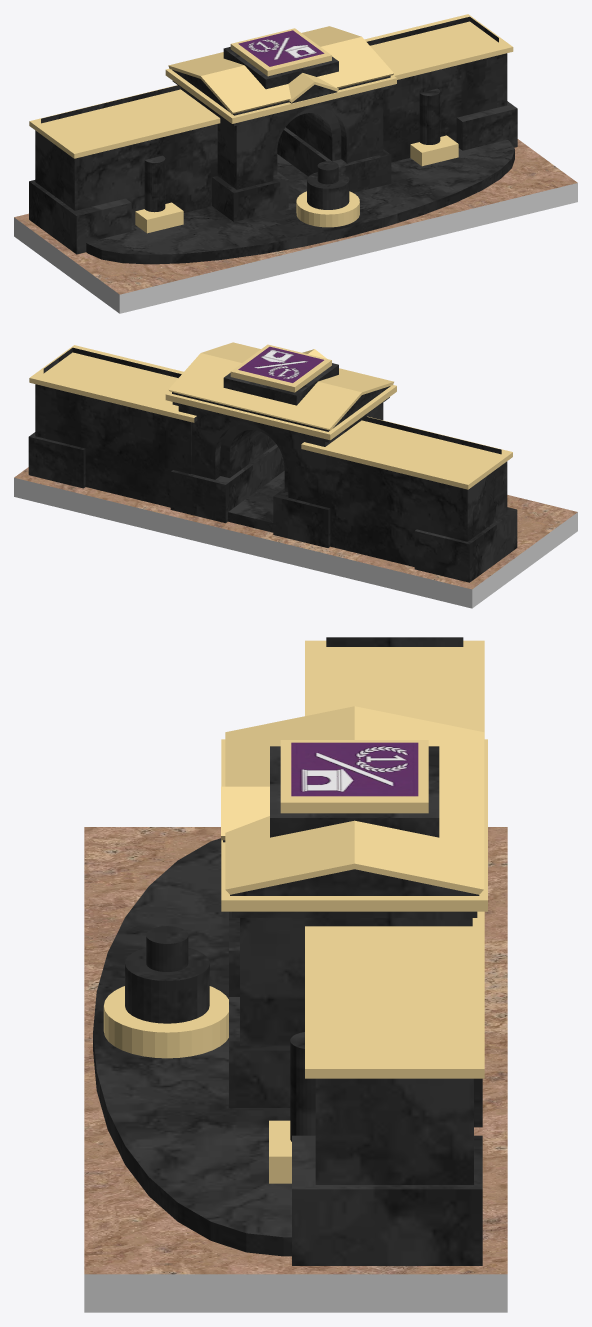
Rendered from buildingFuenteMajestuosa.glb.
3 views of the same model, one above another, from view 1: azimuth 30°, elevation 25°; view 2: azimuth 150°, elevation 25°; view 3: azimuth 270°, elevation 25° (orthographic). The views are drawn at different scales.
Parts seen in each view (by area): view 1: FuenteMajestuosa; view 2: FuenteMajestuosa; view 3: FuenteMajestuosa.
Part boxes in pixels (x1,y1,x2,y2): FuenteMajestuosa: (14, 14, 577, 313); FuenteMajestuosa: (14, 342, 577, 608); FuenteMajestuosa: (84, 637, 507, 1312).
Size of the model in its own units: 5 by 1.67 by 2.
5 materials, 3 textured.
